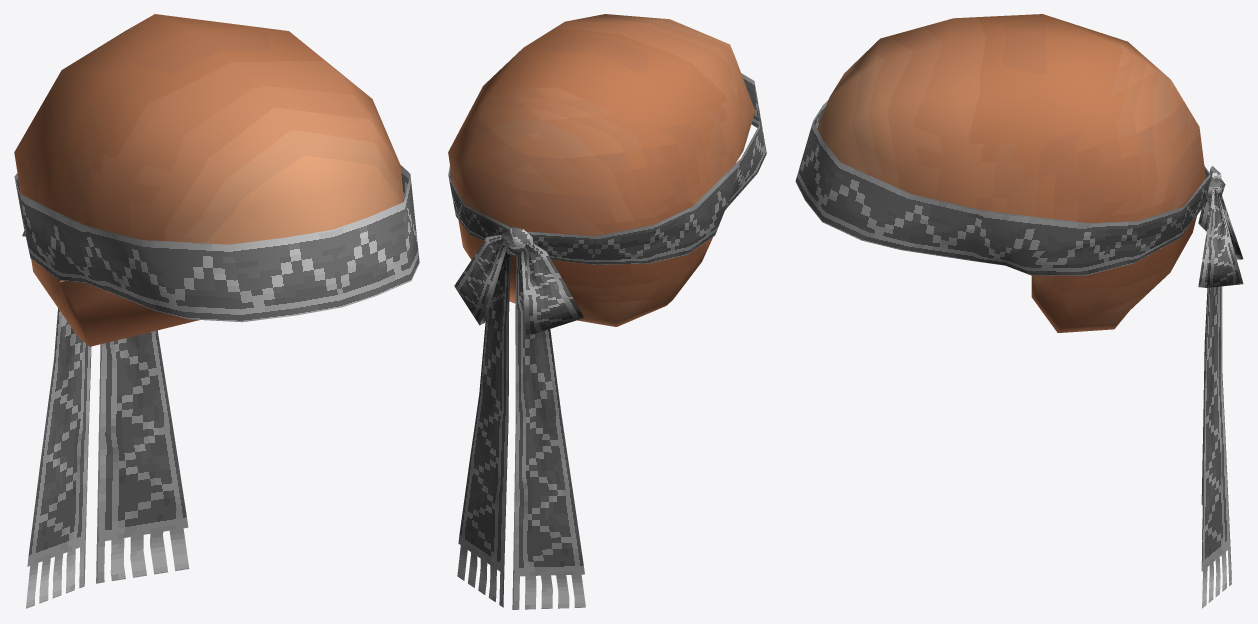
File: m_head017.glb
3 views of the same model, side by side, from view 1: azimuth 30°, elevation 25°; view 2: azimuth 150°, elevation 25°; view 3: azimuth 270°, elevation 25° (orthographic). The views are drawn at different scales.
Bounding box in the file's own units: 16.58 × 32.96 × 24.46.
Materials: 2 (2 with a texture image).
